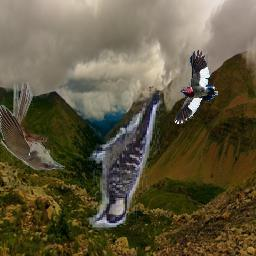Cuckoo: (0, 82, 65, 170)
Woodpecker: (87, 85, 165, 231), (174, 50, 218, 125)
